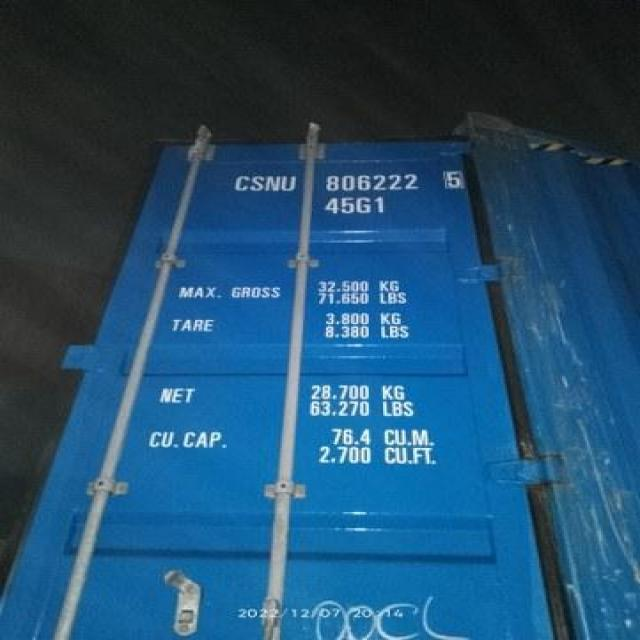ISO: (326, 196, 386, 216)
container_number: (240, 171, 463, 193)
